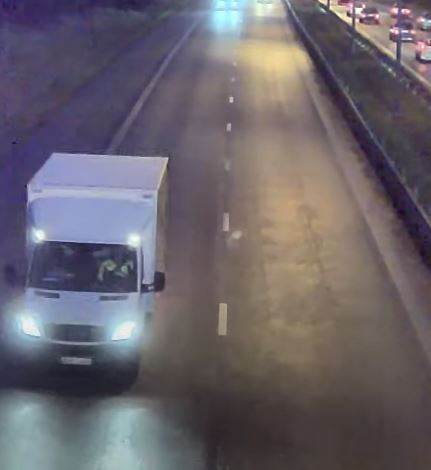Car: (13, 150, 171, 387)
